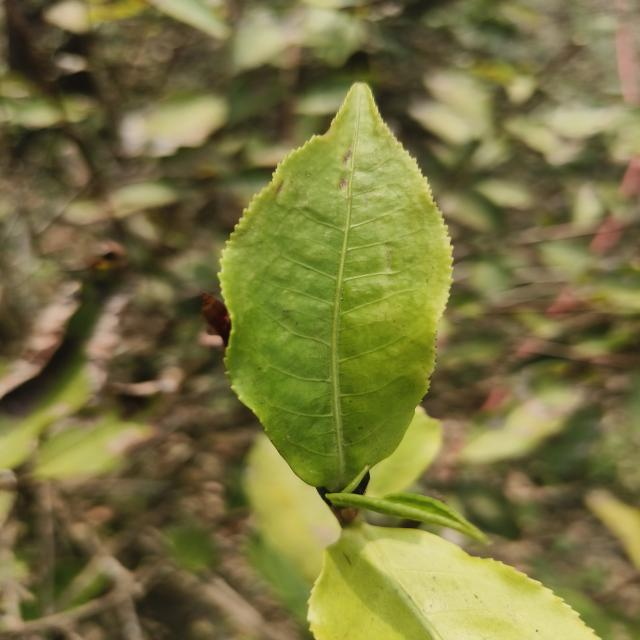Leaf: (219, 84, 451, 490), (308, 522, 599, 640), (0, 242, 132, 469), (460, 360, 584, 464), (326, 492, 489, 543), (33, 418, 152, 479), (367, 405, 442, 498), (120, 95, 228, 157), (423, 70, 490, 133), (438, 192, 496, 231)
